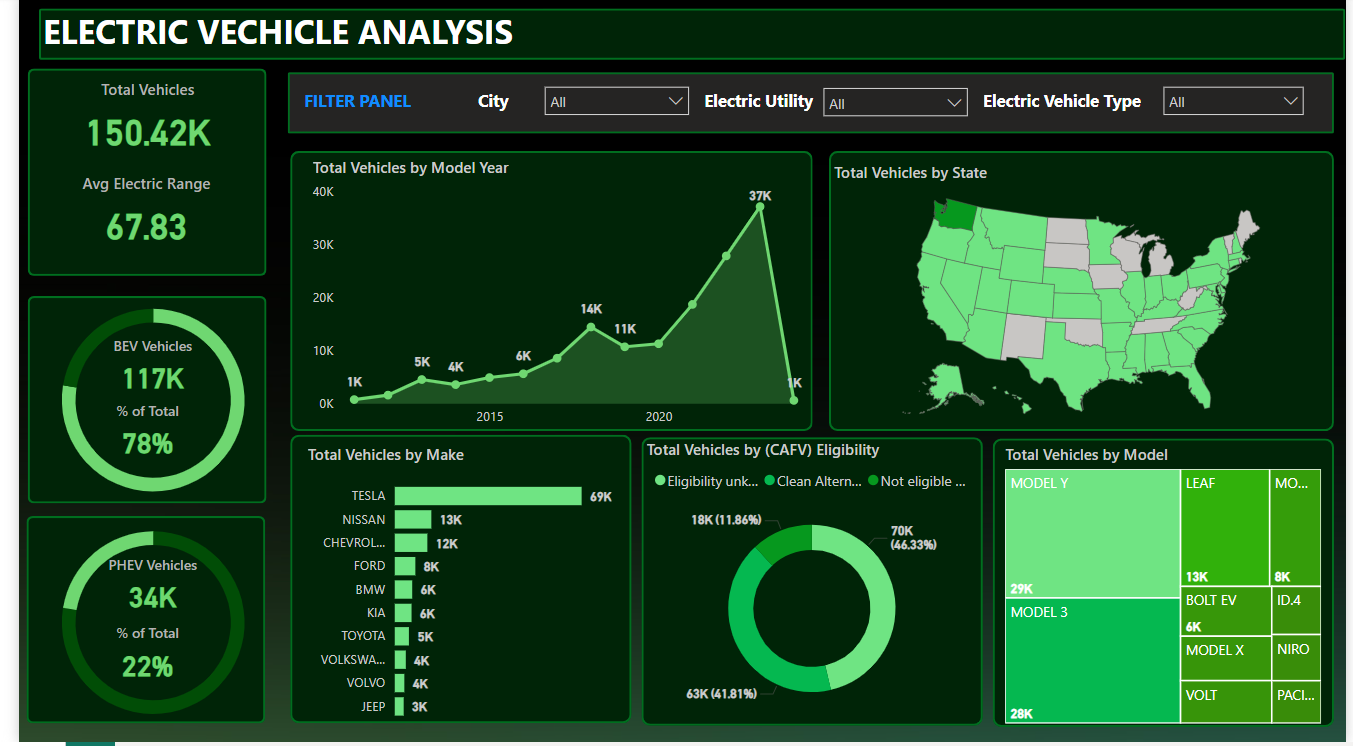

The page's visual inventory and layout, read from the dashboard file:
{"tool":"powerbi","page":{"name":"Page 1","canvas":[1280,720],"ordinal":0},"visuals":[{"type":"shape","box":[19.3,12.1,1260.7,49.5],"z":0},{"type":"textbox","box":[18.1,7.2,486.2,54.3],"z":1000},{"type":"shape","box":[8.4,70,230.4,200.3],"z":2000},{"type":"card","title":"Total Vehicles","fields":{"Values":["Electric_Vehicle_Population_Data.Total Vehicles"]},"box":[9.7,79.6,229.2,79.6],"z":3000},{"type":"card","title":"Avg Electric Range","fields":{"Values":["Avg(Electric_Vehicle_Population_Data.Electric Range)"]},"box":[8.4,170.1,229.2,79.6],"z":4000},{"type":"shape","box":[8.4,289.5,230.4,200.3],"z":5000},{"type":"shape","box":[7.2,501.9,230.4,200.3],"z":6000},{"type":"donutChart","fields":{"Category":["Electric_Vehicle_Population_Data.Electric Vehicle Type"],"Y":["Electric_Vehicle_Population_Data.Total Vehicles"]},"box":[0,275.1,259.4,230.4],"z":7000},{"type":"card","title":"BEV Vehicles","fields":{"Values":["Electric_Vehicle_Population_Data.BEV Vehicles"]},"box":[45.8,328.2,166.5,62.7],"z":8000},{"type":"card","title":"% of Total","fields":{"Values":["Electric_Vehicle_Population_Data.% of BEV"]},"box":[41,390.9,166.5,62.7],"z":9000},{"type":"donutChart","fields":{"Category":["Electric_Vehicle_Population_Data.Electric Vehicle Type"],"Y":["Electric_Vehicle_Population_Data.Total Vehicles"]},"box":[0,489.8,259.4,230.4],"z":10000},{"type":"card","title":"PHEV Vehicles","fields":{"Values":["Electric_Vehicle_Population_Data.PHEV Vehicles"]},"box":[45.8,539.3,166.5,62.7],"z":11000},{"type":"card","title":"% of Total","fields":{"Values":["Electric_Vehicle_Population_Data.% of PHEV"]},"box":[41,605.6,166.5,62.7],"z":12000},{"type":"shape","box":[259.4,73.6,1009.8,59.1],"z":13000},{"type":"shape","box":[261.8,149.6,504.3,270.2],"z":14000},{"type":"areaChart","fields":{"Category":["Electric_Vehicle_Population_Data.Model Year"],"Y":["Electric_Vehicle_Population_Data.Total Vehicles"]},"box":[278.7,154.4,487.4,270.2],"z":15000},{"type":"shape","box":[781.8,149.6,487.4,270.2],"z":16000},{"type":"shapeMap","fields":{"Category":["Electric_Vehicle_Population_Data.State"],"Value":["Electric_Vehicle_Population_Data.Total Vehicles"]},"box":[781.8,159.3,487.4,260.6],"z":17000},{"type":"shape","box":[262.1,424,329.3,278.6],"z":18000},{"type":"barChart","fields":{"Category":["Electric_Vehicle_Population_Data.Make"],"Y":["Electric_Vehicle_Population_Data.Total Vehicles"]},"box":[274.4,432.2,303.3,277.2],"z":19000},{"type":"shape","box":[601,425.4,329.3,278.6],"z":20000},{"type":"donutChart","title":"Total Vehicles by (CAFV) Eligibility","fields":{"Category":["Electric_Vehicle_Population_Data.Clean Alternative Fuel Vehicle (CAFV) Eligibility"],"Y":["Electric_Vehicle_Population_Data.Total Vehicles"]},"box":[601,426.8,329.3,278.6],"z":21000},{"type":"shape","box":[940,426.8,329.3,278.6],"z":22000},{"type":"treemap","fields":{"Group":["Electric_Vehicle_Population_Data.Model"],"Values":["Electric_Vehicle_Population_Data.Total Vehicles"]},"box":[947.1,431.9,314.9,275.1],"z":23000},{"type":"textbox","box":[270.2,79.6,125.5,54.3],"z":24000},{"type":"textbox","box":[270.2,84.5,133.9,49.5],"z":25000},{"type":"slicer","fields":{"Values":["Electric_Vehicle_Population_Data.City"]},"box":[497.1,77.2,159.3,51.9],"z":26000},{"type":"textbox","box":[437.9,84.5,66.4,35],"z":27000},{"type":"slicer","fields":{"Values":["Electric_Vehicle_Population_Data.City"]},"box":[1094.2,77.2,155.6,51.9],"z":28000},{"type":"slicer","fields":{"Values":["Electric_Vehicle_Population_Data.City"]},"box":[766.1,78.4,159.3,51.9],"z":29000},{"type":"textbox","box":[656.3,84.5,139.9,35],"z":30000},{"type":"textbox","box":[925.3,84.5,179.8,35],"z":30001}]}

Visuals, with their boxes in screenshot pixels (x1, y1, x2, y2), scaled from the page's 1280x720 canvas onto the 1353x746 screenshot:
shape: <region>20, 13, 1352, 64</region>
textbox: <region>19, 7, 533, 64</region>
shape: <region>9, 73, 252, 280</region>
"Total Vehicles" card: <region>10, 82, 253, 165</region>
"Avg Electric Range" card: <region>9, 176, 251, 259</region>
shape: <region>9, 300, 252, 507</region>
shape: <region>8, 520, 251, 728</region>
donutChart - Electric_Vehicle_Population_Data.Electric Vehicle Type x Electric_Vehicle_Population_Data.Total Vehicles: <region>0, 285, 274, 524</region>
"BEV Vehicles" card: <region>48, 340, 224, 405</region>
"% of Total" card: <region>43, 405, 219, 470</region>
donutChart - Electric_Vehicle_Population_Data.Electric Vehicle Type x Electric_Vehicle_Population_Data.Total Vehicles: <region>0, 507, 274, 745</region>
"PHEV Vehicles" card: <region>48, 559, 224, 624</region>
"% of Total" card: <region>43, 627, 219, 692</region>
shape: <region>274, 76, 1342, 137</region>
shape: <region>277, 155, 810, 435</region>
areaChart - Electric_Vehicle_Population_Data.Model Year x Electric_Vehicle_Population_Data.Total Vehicles: <region>295, 160, 810, 440</region>
shape: <region>826, 155, 1342, 435</region>
shapeMap - Electric_Vehicle_Population_Data.State x Electric_Vehicle_Population_Data.Total Vehicles: <region>826, 165, 1342, 435</region>
shape: <region>277, 439, 625, 728</region>
barChart - Electric_Vehicle_Population_Data.Make x Electric_Vehicle_Population_Data.Total Vehicles: <region>290, 448, 611, 735</region>
shape: <region>635, 441, 983, 729</region>
"Total Vehicles by (CAFV) Eligibility" donutChart: <region>635, 442, 983, 731</region>
shape: <region>994, 442, 1342, 731</region>
treemap - Electric_Vehicle_Population_Data.Model x Electric_Vehicle_Population_Data.Total Vehicles: <region>1001, 447, 1334, 733</region>
textbox: <region>286, 82, 418, 139</region>
textbox: <region>286, 88, 427, 139</region>
slicer - Electric_Vehicle_Population_Data.City: <region>525, 80, 694, 134</region>
textbox: <region>463, 88, 533, 124</region>
slicer - Electric_Vehicle_Population_Data.City: <region>1157, 80, 1321, 134</region>
slicer - Electric_Vehicle_Population_Data.City: <region>810, 81, 978, 135</region>
textbox: <region>694, 88, 842, 124</region>
textbox: <region>978, 88, 1168, 124</region>
